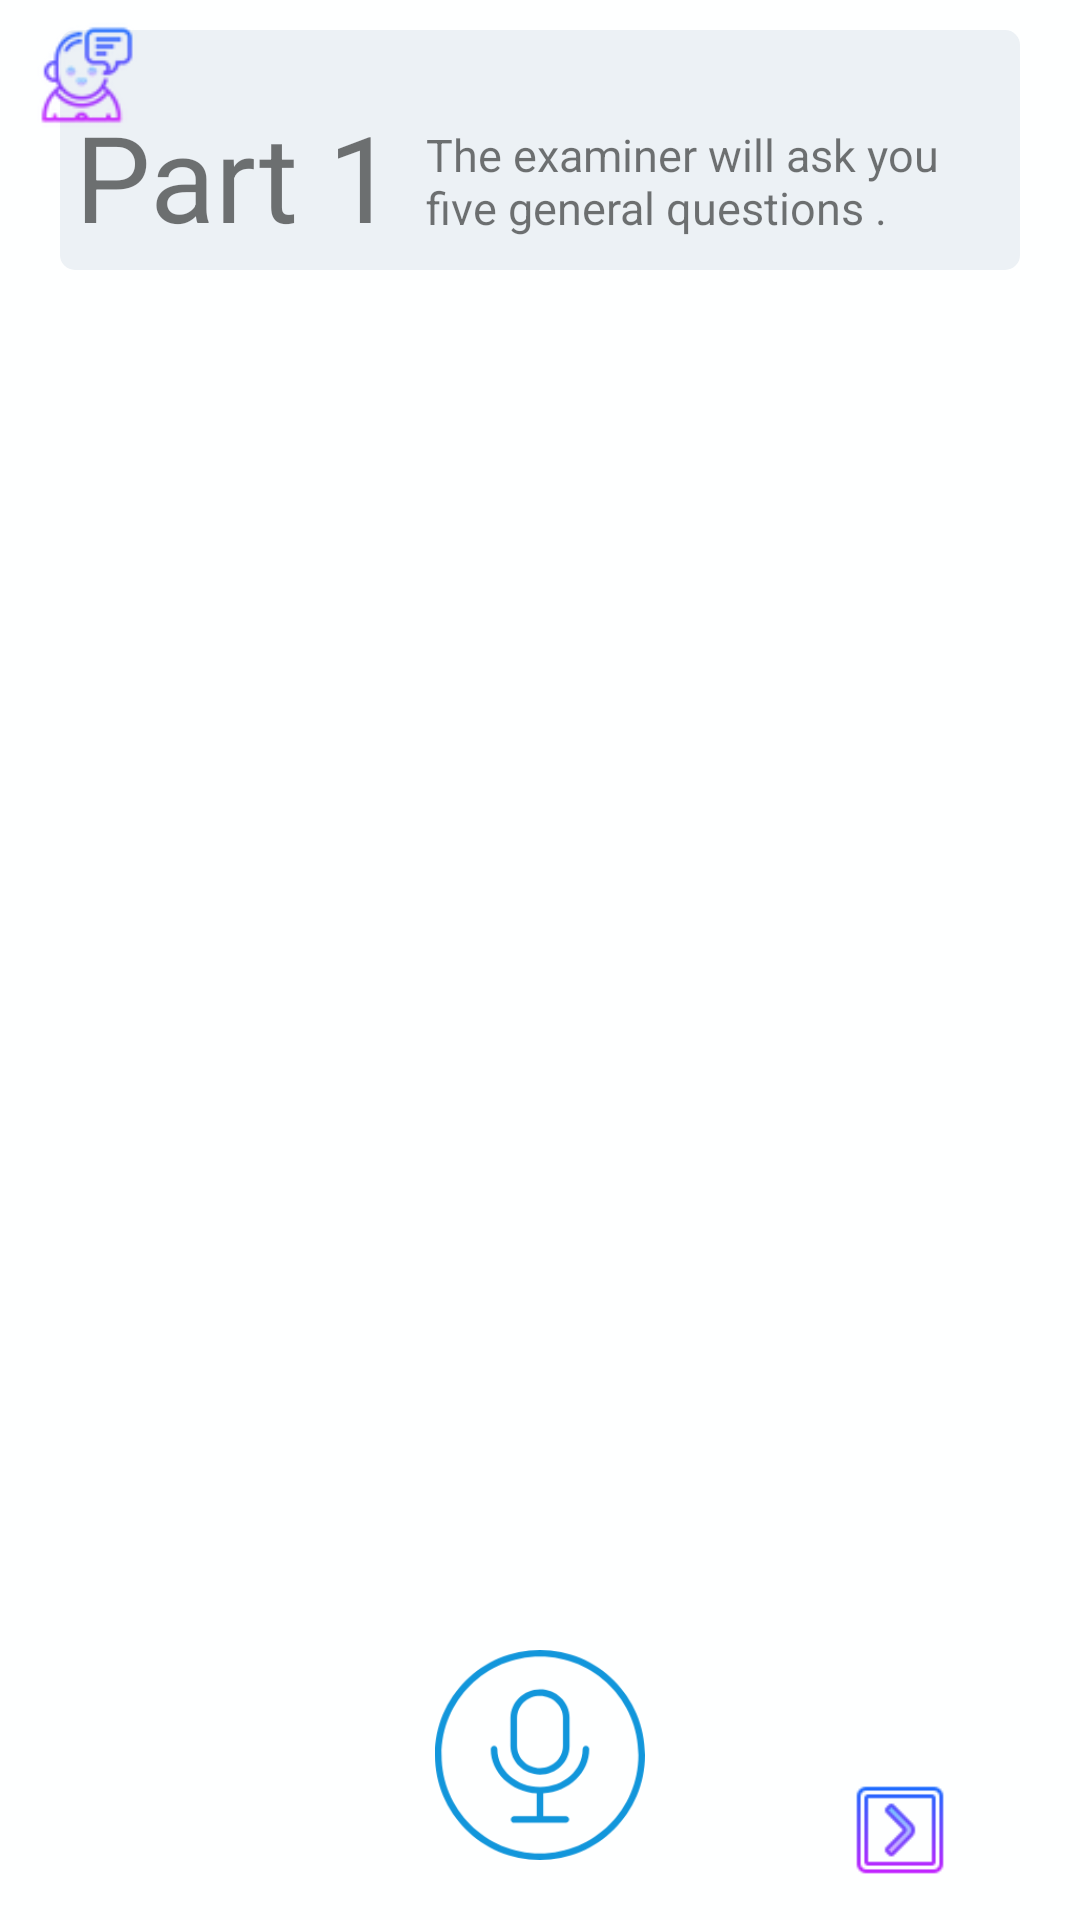

Locate icon controls on the screen. Image size 1080px x 1920px, boxes as [left=x1, top=y1, right=x2, bottom=y2].
interviewer: [left=41, top=27, right=133, bottom=123]
voice: [left=435, top=1650, right=645, bottom=1860]
